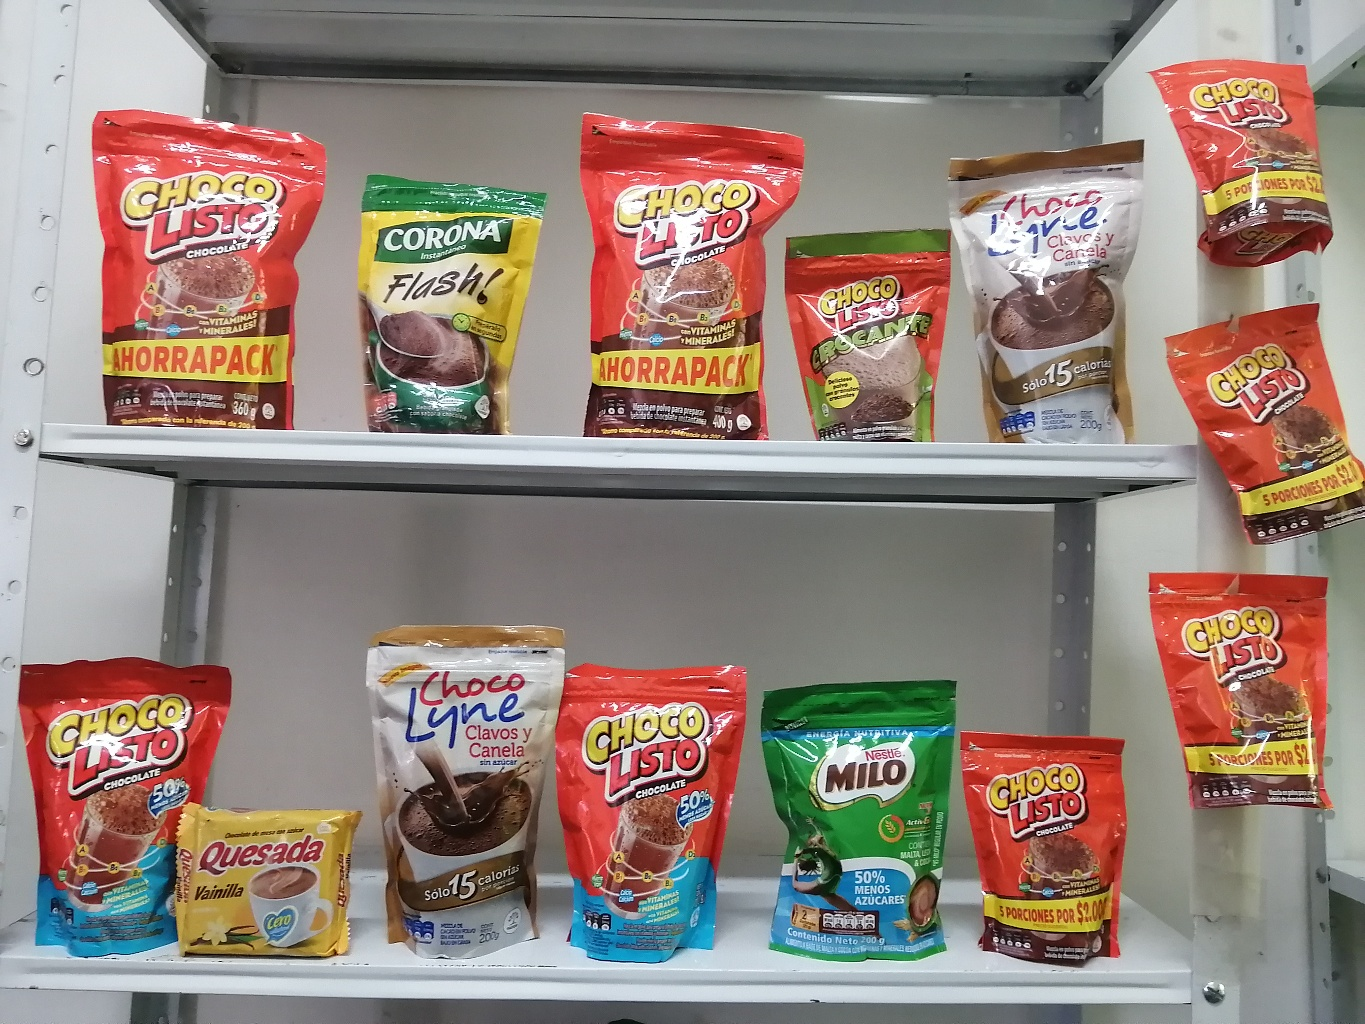COL0170102DYP10000: (777, 216, 968, 441)
COL0170103DYP10000: (1151, 32, 1357, 275)
COL0170103DYP36000: (91, 88, 349, 431)
COL0170103DYP40000: (573, 93, 816, 451)
COL0170104DYP20000: (559, 652, 751, 962)
COL0170205DYP20000: (753, 666, 968, 957)
